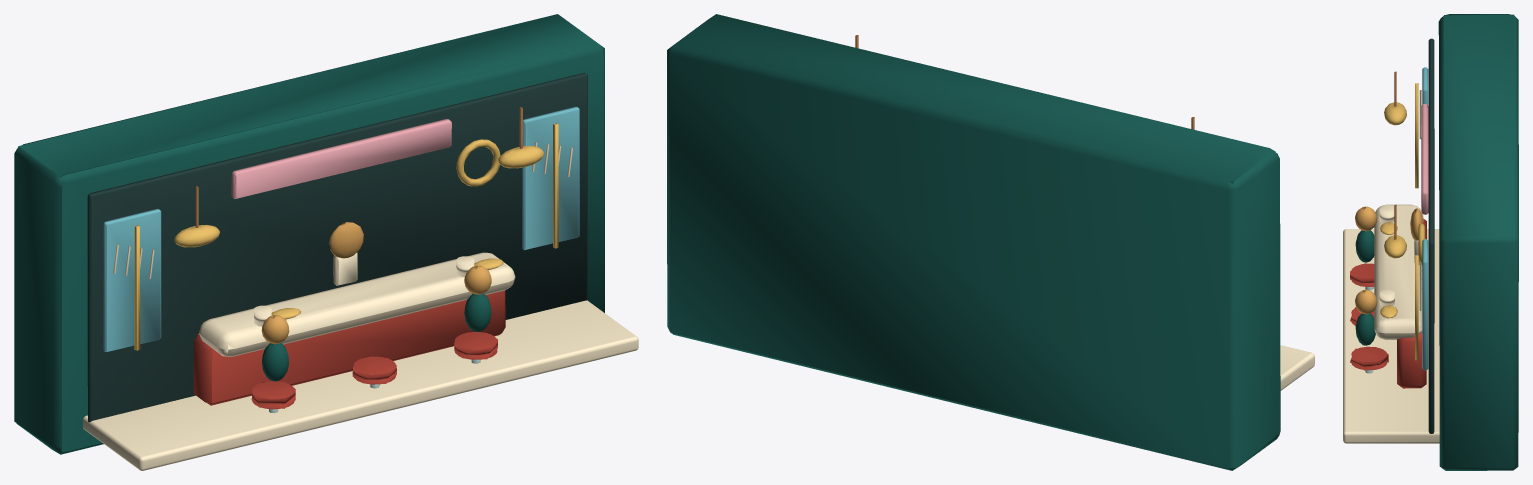
3 renders of one model, left to right at view 1: azimuth 30°, elevation 25°; view 2: azimuth 150°, elevation 25°; view 3: azimuth 270°, elevation 25°, orthographic. The views are drawn at different scales.
Parts seen in each view (by area): view 1: Midnight interior, Diorama shadow box, Tiny diner floor, Mini counter front, Neon window, After hours sign, Clock, Tiny cook, Guest coat.001, Guest coat, Tiny apron, Guest face.001 (+1 smaller); view 2: Diorama shadow box, Tiny diner floor; view 3: Diorama shadow box, Tiny diner floor, Mini counter front, Midnight interior, Clock, Neon window, After hours sign, Guest coat.001, Guest coat, Guest face, Guest face.001, Tiny cook (+1 smaller).
Boxes of the visible parts, bbox=[...] form: Midnight interior: bbox=[87, 73, 587, 422]; Diorama shadow box: bbox=[14, 14, 604, 454]; Tiny diner floor: bbox=[83, 142, 638, 470]; Mini counter front: bbox=[193, 290, 505, 409]; Neon window: bbox=[103, 106, 579, 351]; After hours sign: bbox=[231, 119, 451, 198]; Clock: bbox=[134, 123, 558, 350]; Tiny cook: bbox=[329, 222, 363, 258]; Guest coat.001: bbox=[464, 293, 491, 331]; Guest coat: bbox=[262, 343, 288, 381]; Tiny apron: bbox=[333, 252, 357, 285]; Guest face.001: bbox=[464, 265, 491, 294]; Diorama shadow box: bbox=[667, 14, 1280, 470]; Tiny diner floor: bbox=[1280, 345, 1314, 390]; Diorama shadow box: bbox=[1438, 14, 1518, 470]; Tiny diner floor: bbox=[1343, 90, 1439, 443]; Mini counter front: bbox=[1350, 218, 1426, 388]; Midnight interior: bbox=[1428, 38, 1434, 433]; Clock: bbox=[1380, 83, 1424, 360]; Neon window: bbox=[1422, 67, 1428, 370]; After hours sign: bbox=[1421, 104, 1428, 214]; Guest coat.001: bbox=[1355, 313, 1375, 345]; Guest coat: bbox=[1355, 230, 1374, 262]; Guest face: bbox=[1355, 206, 1377, 231]; Guest face.001: bbox=[1355, 289, 1377, 314]; Tiny cook: bbox=[1410, 208, 1423, 240].
Bounding box in the file's own units: 1.63 × 0.7935 × 0.5364.
